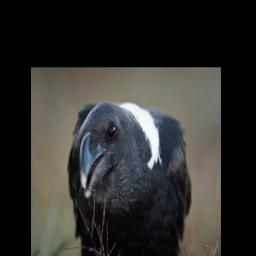Crow: (67, 100, 190, 256)
